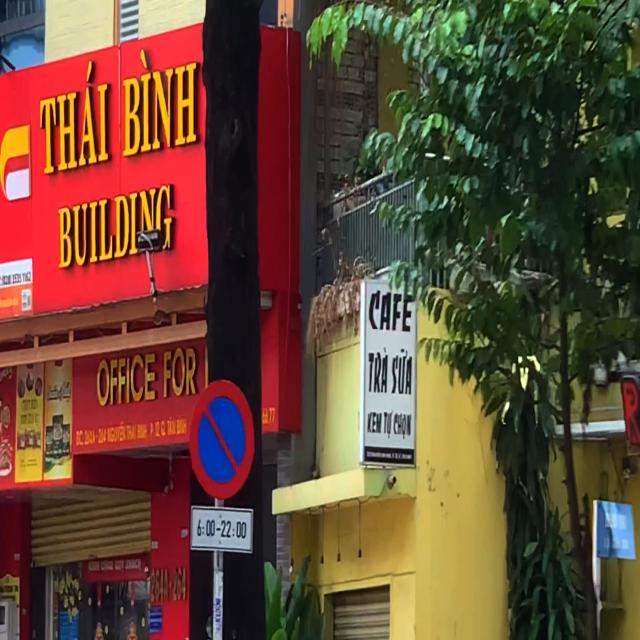Cam do: (189, 380, 255, 500)
